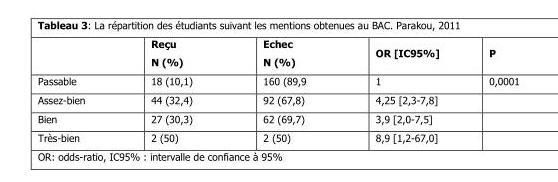table: (37, 36, 518, 143)
table column: (340, 36, 463, 143), (227, 36, 340, 143), (117, 36, 227, 143), (37, 36, 117, 143), (463, 36, 518, 143)
table column header: (37, 36, 518, 70)
table row: (37, 36, 518, 70), (37, 70, 518, 89), (37, 89, 518, 108), (37, 108, 518, 127), (37, 127, 518, 143)
